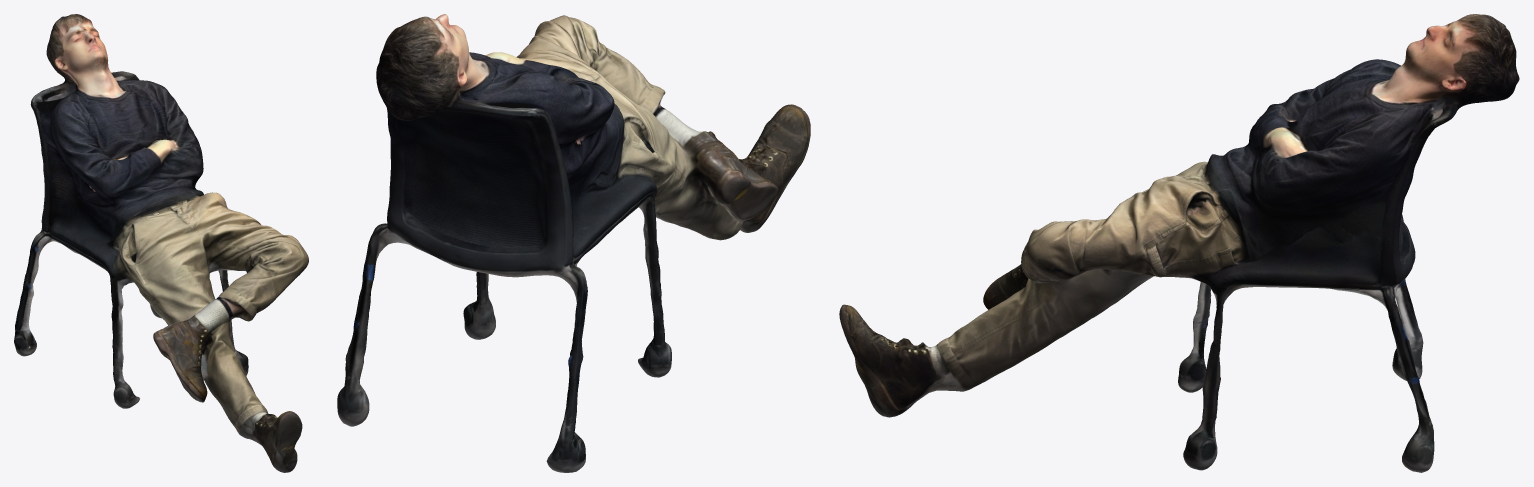
Rendered from Stephen.fbx.
3 views of the same model, side by side, from view 1: azimuth 30°, elevation 25°; view 2: azimuth 150°, elevation 25°; view 3: azimuth 270°, elevation 25° (orthographic). The views are drawn at different scales.
Visible parts, largest first — view 1: Object; view 2: Object; view 3: Object.
Boxes of the visible parts, x1=… form: Object: x1=14, y1=14, x2=308, y2=472; Object: x1=337, y1=14, x2=810, y2=472; Object: x1=839, y1=14, x2=1519, y2=472.
Bounding box in the file's own units: 32.49 × 58.31 × 87.1.
